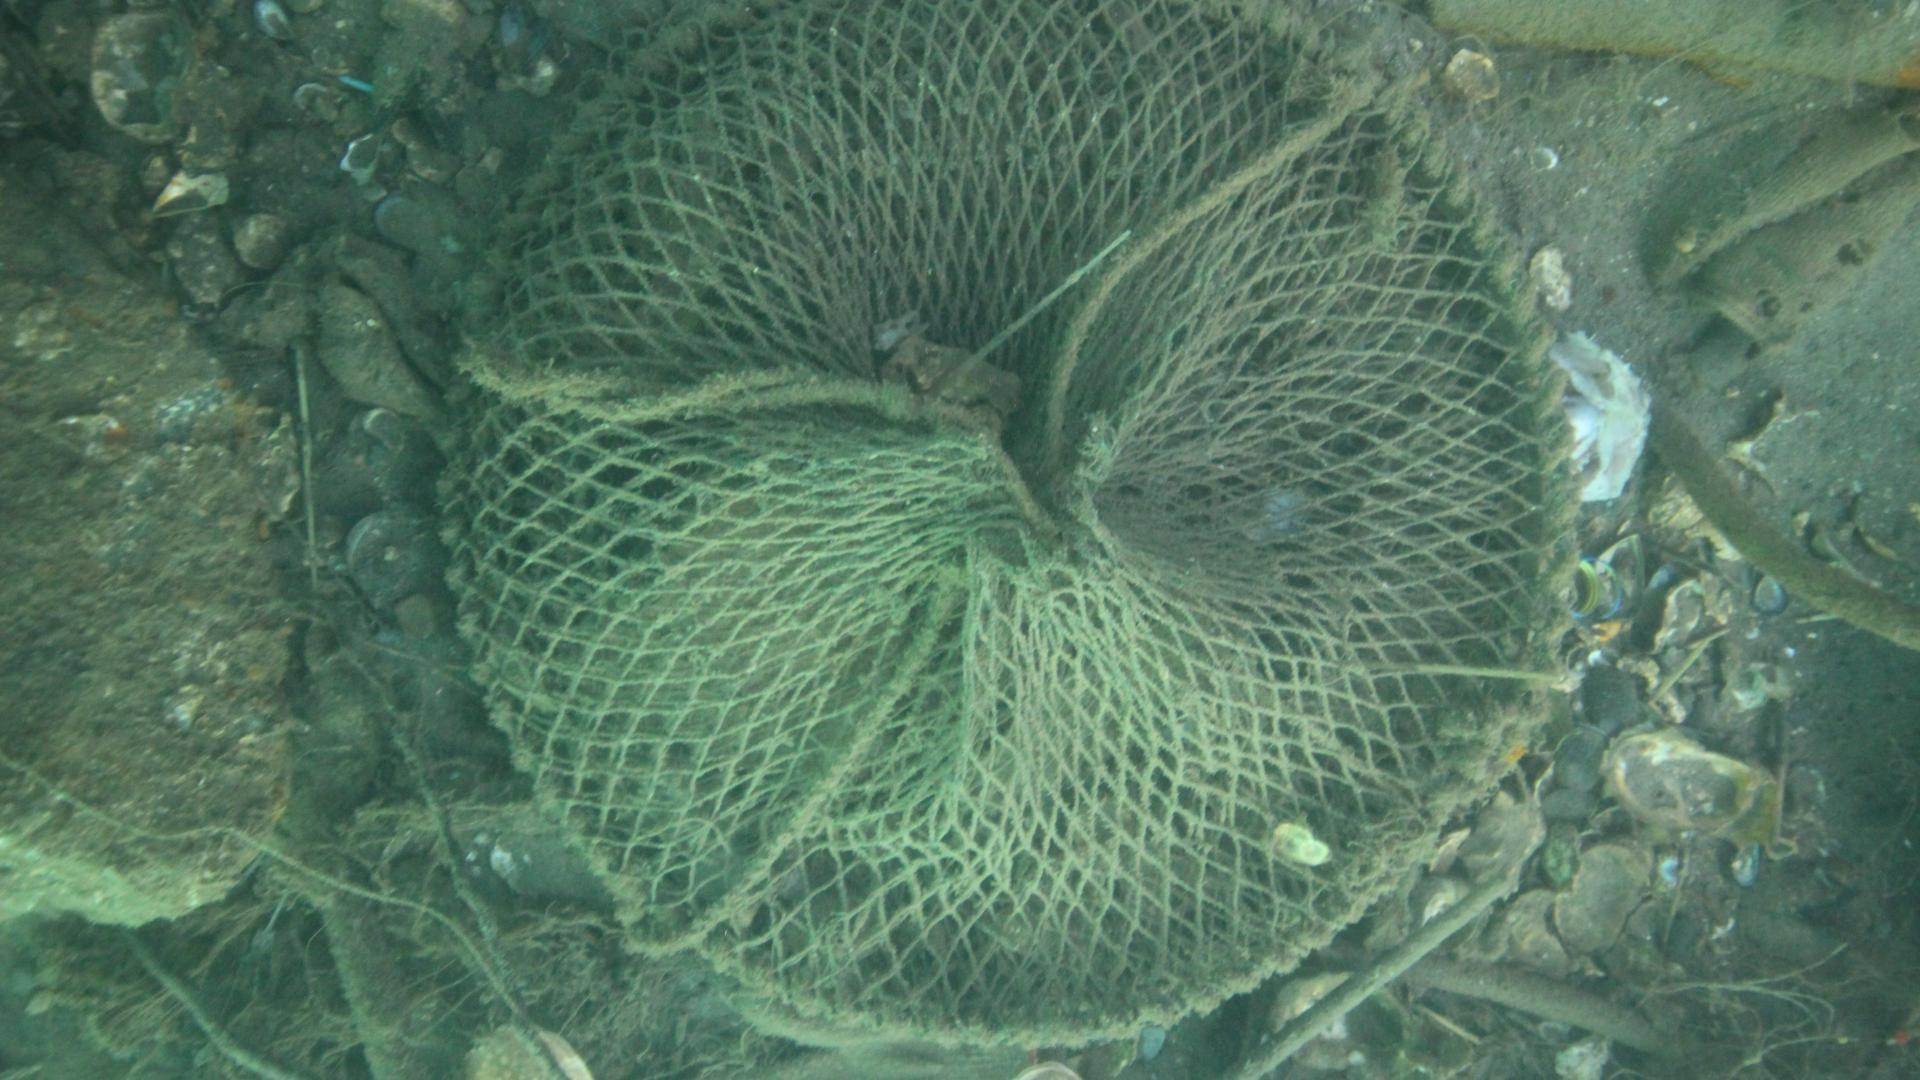circular fish trap: (433, 0, 1577, 1048)
